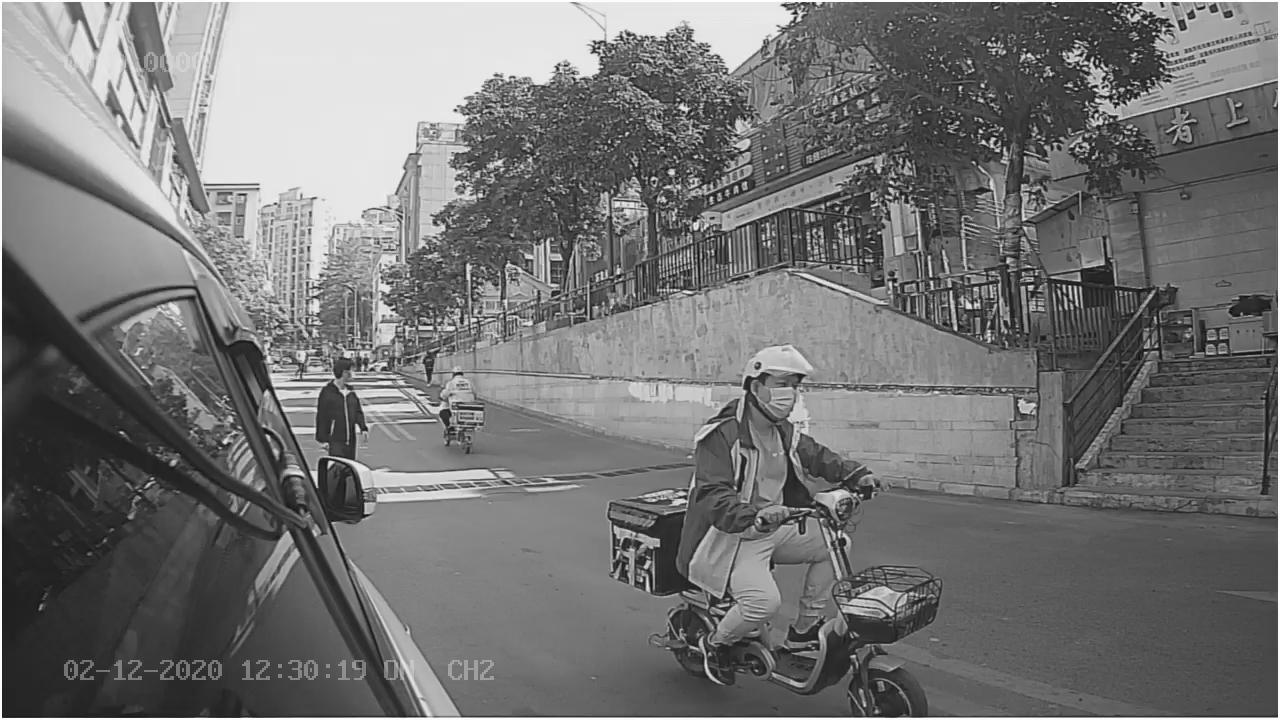person: (688, 339, 854, 524)
